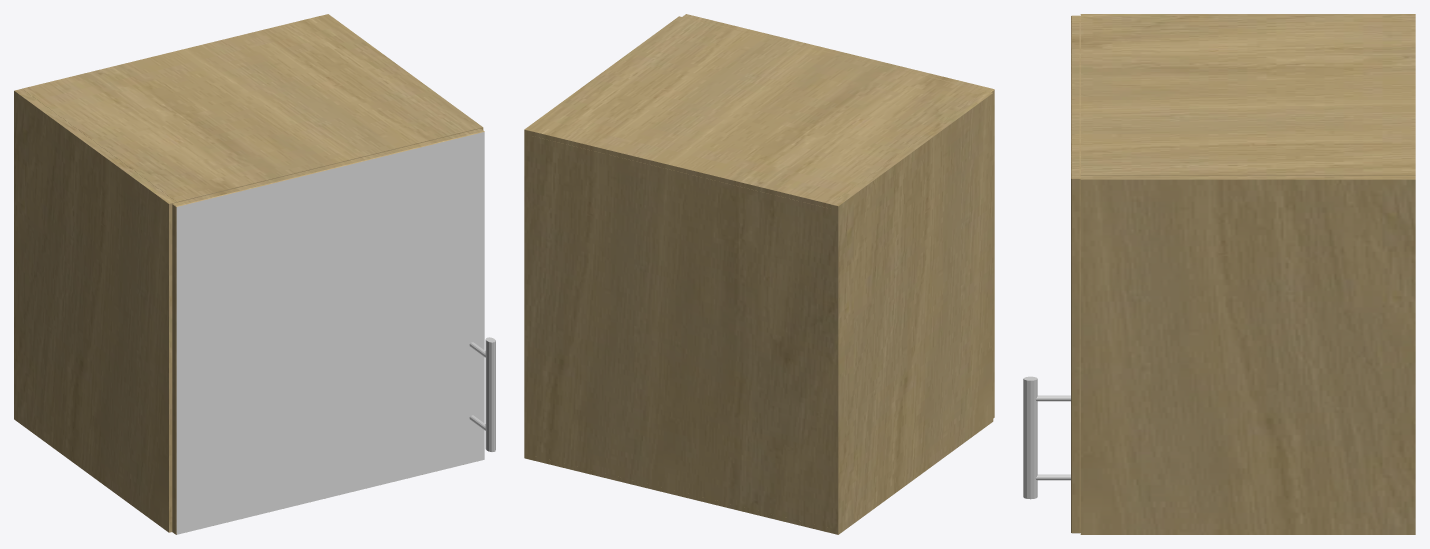
The model's file is sh-bs0-upper-cabinet.glb.
3 views of the same model, side by side, from view 1: azimuth 30°, elevation 25°; view 2: azimuth 150°, elevation 25°; view 3: azimuth 270°, elevation 25° (orthographic). The views are drawn at different scales.
Visible parts, largest first — view 1: Cube.006_Cube.007; view 2: Cube.006_Cube.007; view 3: Cube.006_Cube.007.
Part boxes in pixels (<box>): Cube.006_Cube.007: <box>14,14,495,534</box>; Cube.006_Cube.007: <box>524,14,994,534</box>; Cube.006_Cube.007: <box>1023,14,1415,534</box>.
Bounding box in the file's own units: 1 × 1 × 1.
Materials: 3 (1 with a texture image).
